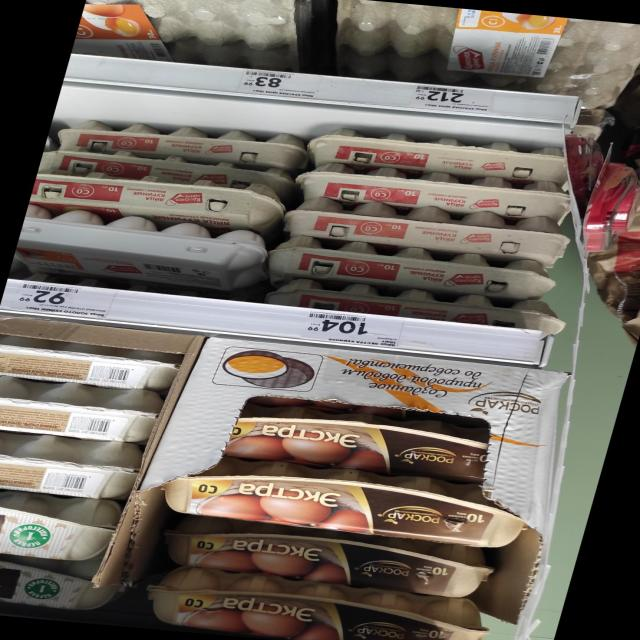organic waste: (153, 452, 535, 552), (149, 515, 505, 600), (130, 566, 505, 640), (225, 395, 499, 481), (11, 205, 277, 292), (260, 235, 567, 303), (277, 194, 579, 262), (260, 276, 573, 341), (290, 159, 576, 221), (27, 164, 284, 232), (301, 125, 575, 184), (50, 118, 307, 170), (38, 146, 290, 194), (0, 374, 164, 446), (0, 334, 184, 394), (0, 426, 138, 500), (0, 546, 127, 615)
